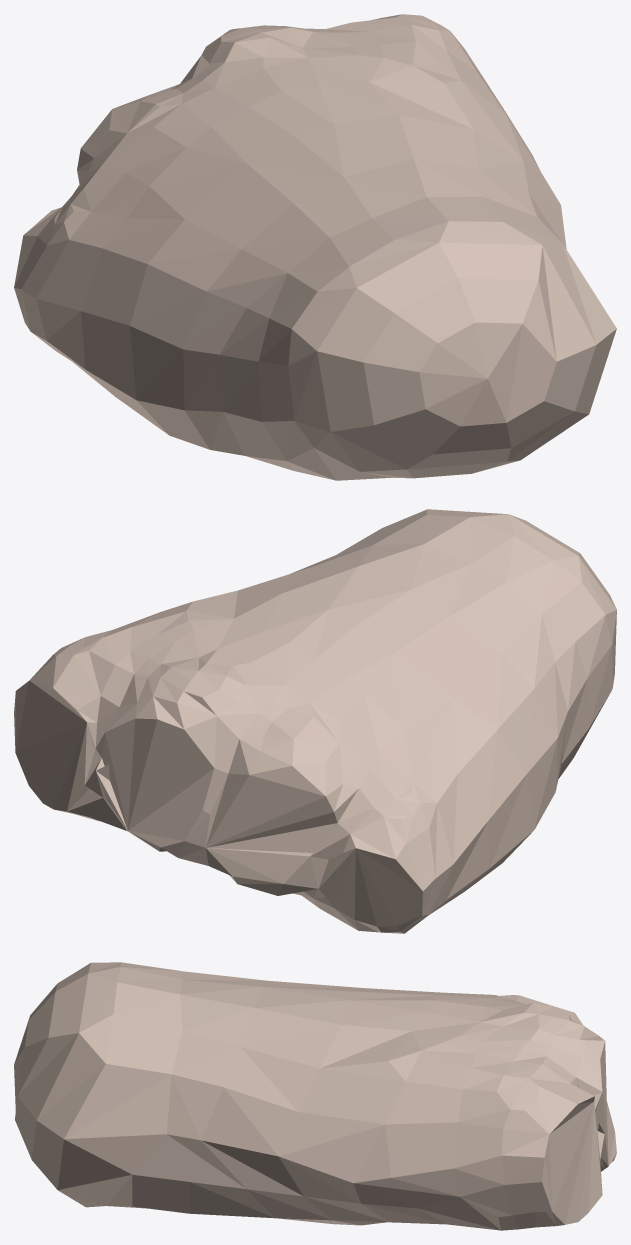
Rendered from LWrist.dae.
3 renders of one model, top to bottom at view 1: azimuth 30°, elevation 25°; view 2: azimuth 150°, elevation 25°; view 3: azimuth 270°, elevation 25°, orthographic. The views are drawn at different scales.
Visible parts, largest first — view 1: ShapeIndexedFaceSet; view 2: ShapeIndexedFaceSet; view 3: ShapeIndexedFaceSet.
Part boxes in pixels (x1=…): ShapeIndexedFaceSet: x1=14, y1=14, x2=616, y2=480; ShapeIndexedFaceSet: x1=14, y1=509, x2=616, y2=933; ShapeIndexedFaceSet: x1=14, y1=962, x2=616, y2=1230.
Size of the model in its own units: 0.0797 by 0.1054 by 0.0455.
